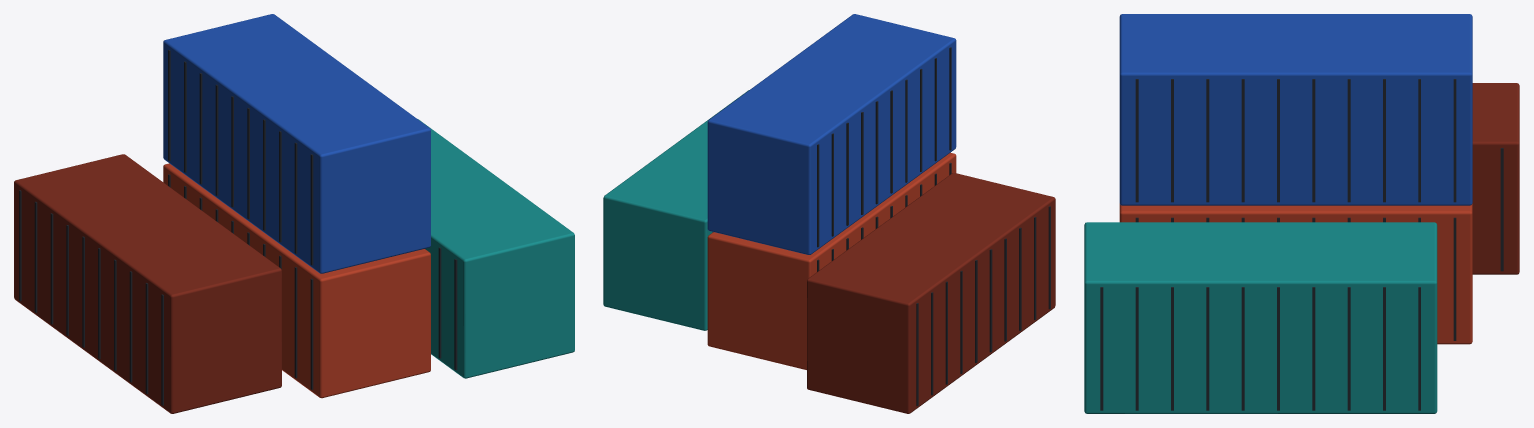
The model's file is prop_container_stack.glb.
3 views of the same model, side by side, from view 1: azimuth 30°, elevation 25°; view 2: azimuth 150°, elevation 25°; view 3: azimuth 270°, elevation 25° (orthographic). The views are drawn at different scales.
Visible parts, largest first — view 1: ContainerStack; view 2: ContainerStack; view 3: ContainerStack.
Part boxes in pixels (x1,y1,x2,y2): ContainerStack: (14,14,574,413); ContainerStack: (603,14,1055,413); ContainerStack: (1084,14,1519,413).
Bounding box in the file's own units: 8.1 × 5.1 × 7.4.
